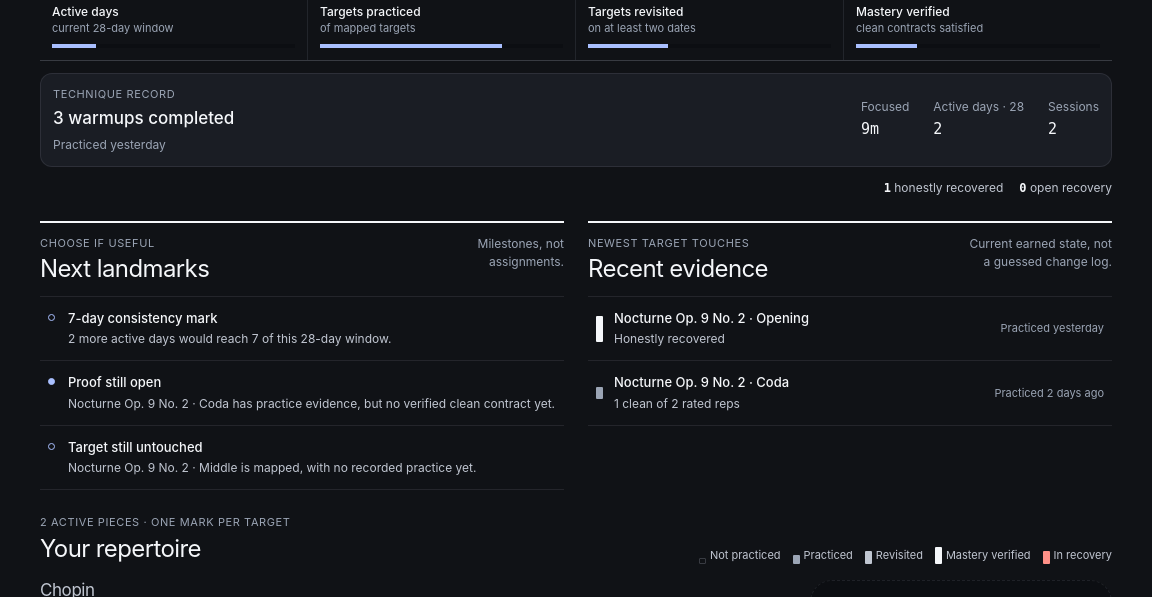
it: UniverseWorkspace evidence-first progress › opens exact target detail from recent evidence and a target landmark
(page scrolled)
Expected: the heading "Your repertoire" is shown, [40,534,201,563]
What coordinates should you click on to do the following:
click the button "Opening"
I would click on:
 (680, 318)
Its box is [588,297,1112,360].
(page scrolled)
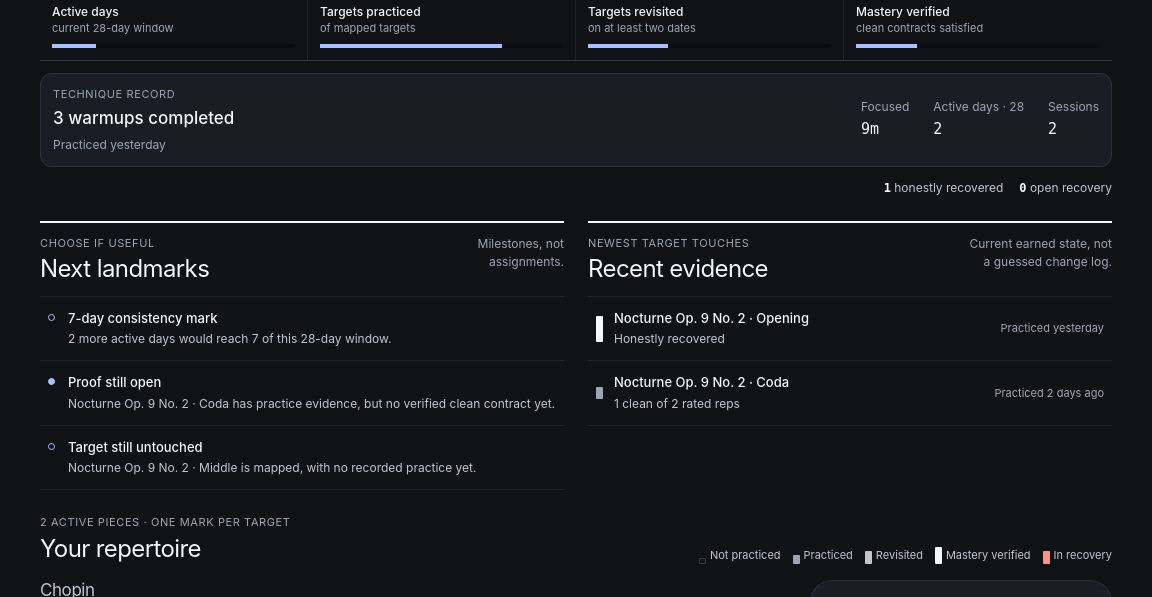
What coordinates should you click on to do the following:
click the button "Proof still open"
I would click on:
 (302, 393)
Its box is [40,361,564,425].
(page scrolled)
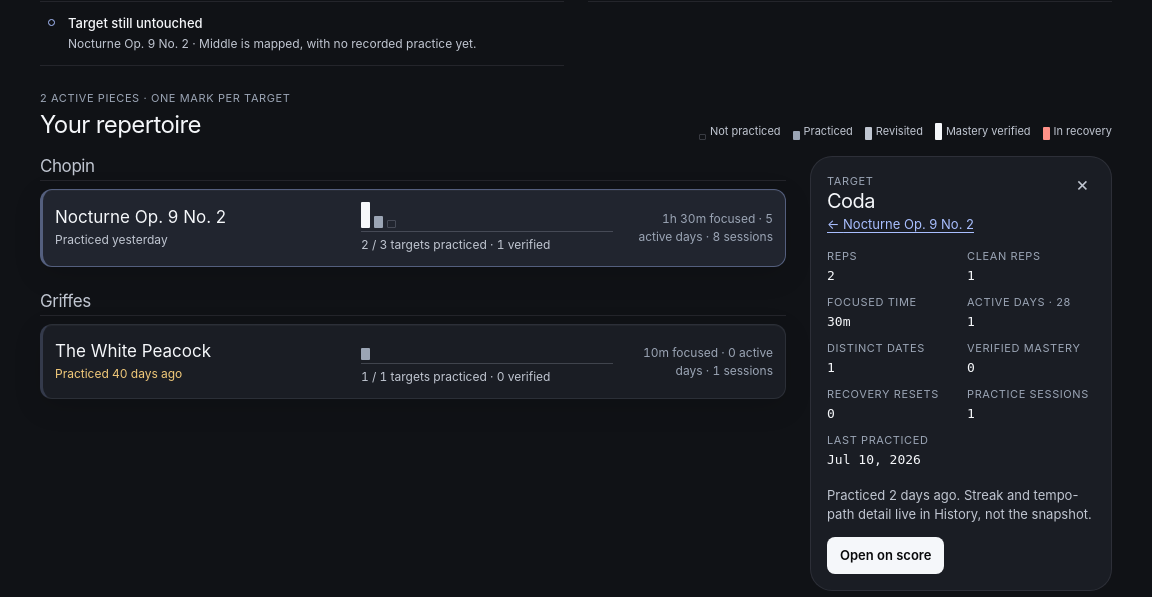
Expected: the element "Coda" is shown, [810,156,1112,591]
